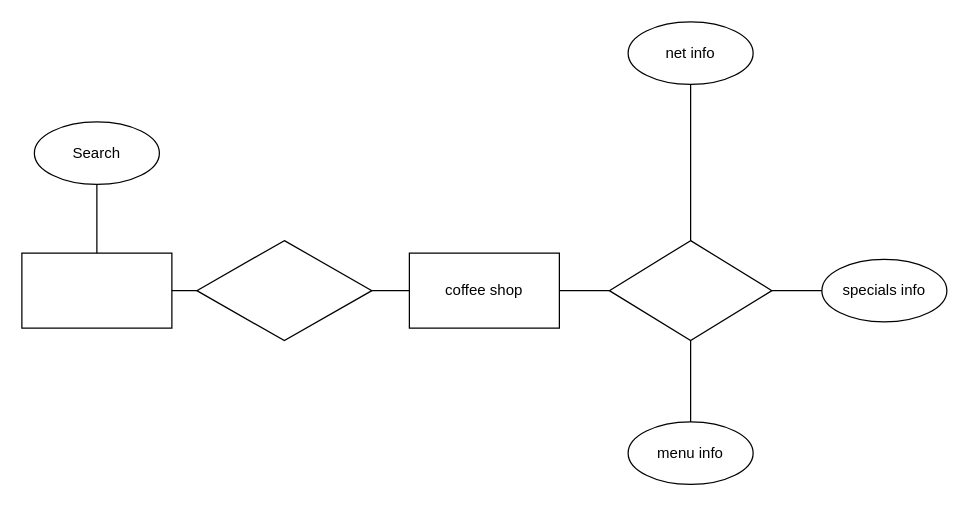
Image size: 969x506. Some labels were removed from this diagram. Here are the shapes that lost their labels. From the top down, the centre of each, then its label:
At (x=96, y=290): "Catalog".
At (x=284, y=290): "Choose shop".
At (x=690, y=290): "See/add".
